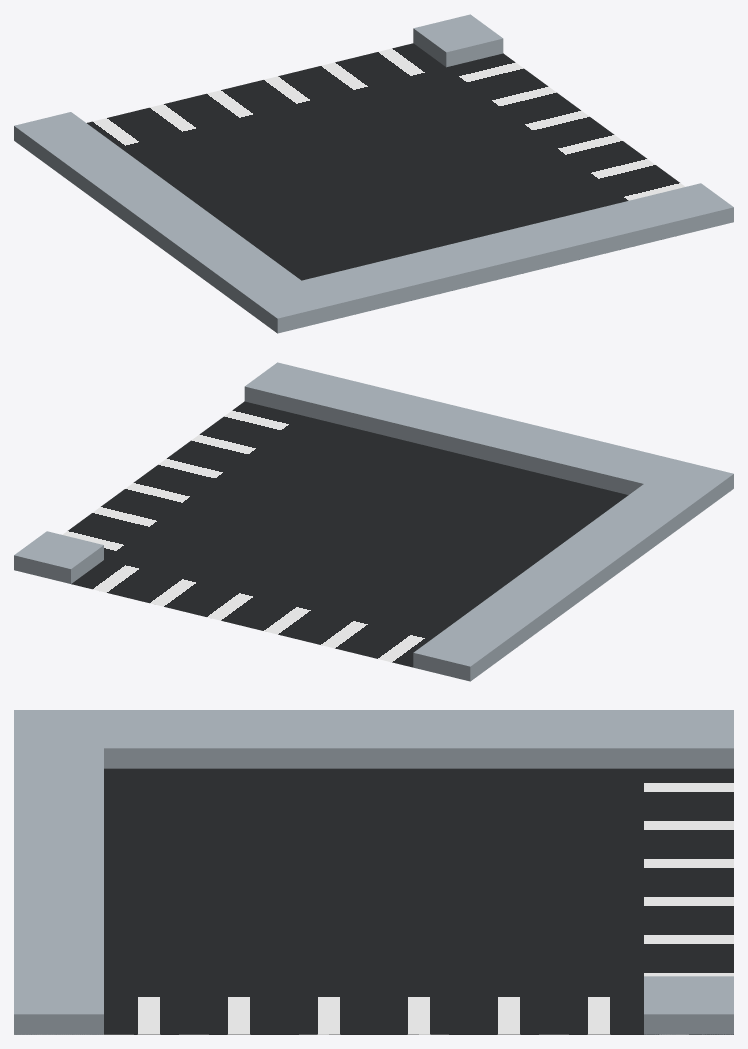
File: Road-rightup.f9b3a2d6.gltf
The picture shows the model from 3 angles, top to bottom: view 1: azimuth 30°, elevation 25°; view 2: azimuth 150°, elevation 25°; view 3: azimuth 270°, elevation 25°; orthographic projection. The views are drawn at different scales.
Visible parts, largest first — view 1: Road, Sidewalk bottom left, Sidewalk Top left, Sidewalk Top right, Sidewalk bottom right; view 2: Road, Sidewalk bottom left, Sidewalk Top left, Sidewalk Top right, Sidewalk bottom right; view 3: Road, Sidewalk Top left, Sidewalk bottom left, Sidewalk Top right, Sidewalk bottom right.
Boxes of the visible parts, x1,y1,x2,y2 form: Road: (87, 43, 685, 280); Sidewalk bottom left: (244, 197, 676, 333); Sidewalk Top left: (14, 112, 300, 309); Sidewalk Top right: (413, 14, 503, 67); Sidewalk bottom right: (644, 183, 733, 235); Road: (62, 401, 628, 667); Sidewalk bottom left: (301, 376, 733, 512); Sidewalk Top left: (413, 484, 700, 681); Sidewalk Top right: (14, 531, 103, 583); Sidewalk bottom right: (244, 362, 333, 415); Road: (14, 768, 733, 1034); Sidewalk Top left: (104, 710, 733, 768); Sidewalk bottom left: (14, 710, 103, 976); Sidewalk Top right: (644, 976, 733, 1034); Sidewalk bottom right: (14, 976, 103, 1034).
Bounding box in the file's own units: 2 × 0.0625 × 2.
Materials: 1 (1 with a texture image).
